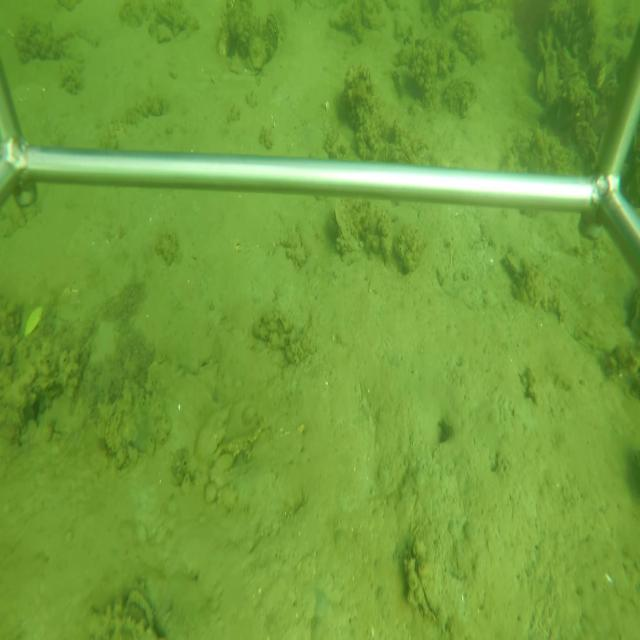Oyster-Closed: (407, 527, 454, 635), (332, 199, 361, 256)
